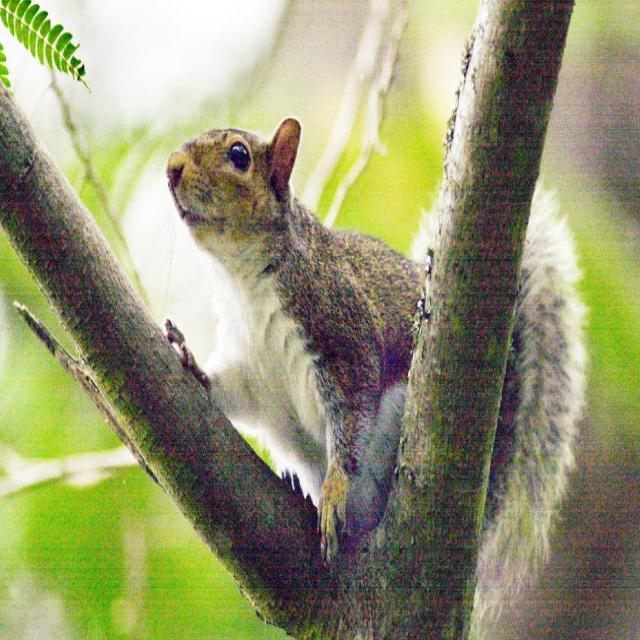Squirrel: (170, 116, 438, 534)
